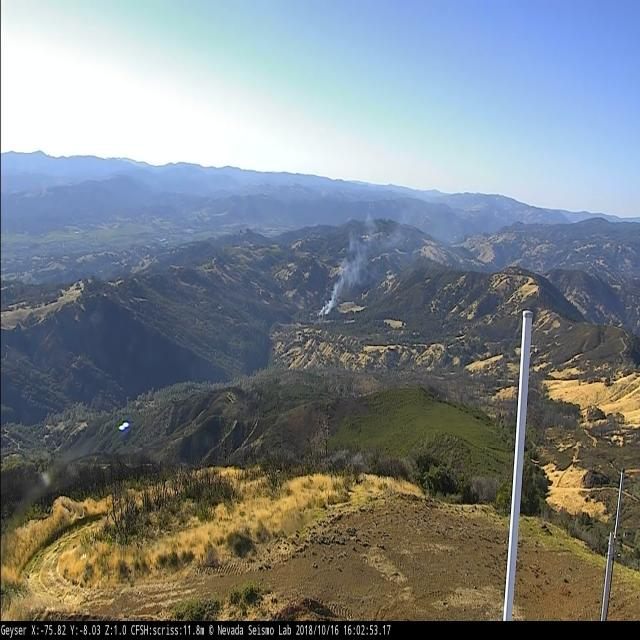smoke: (318, 215, 377, 316)
